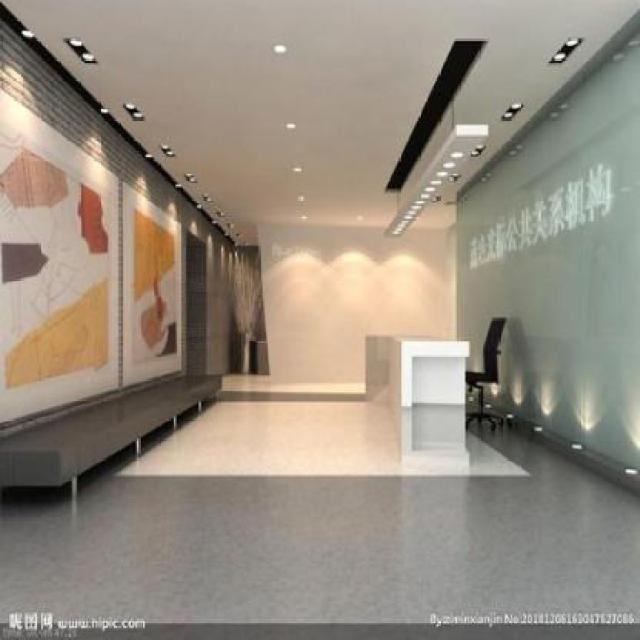frontdesk: (362, 325, 478, 416)
